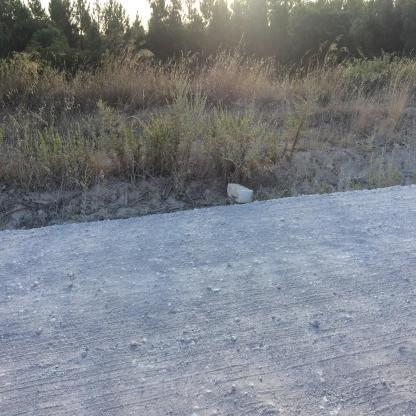kopuk: (228, 184, 254, 204)
